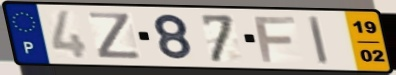4: (49, 9, 90, 61)
7: (200, 13, 236, 63)
8: (151, 12, 195, 62)
F: (251, 15, 298, 64)
I: (306, 14, 331, 67)
Z: (86, 11, 145, 61)
